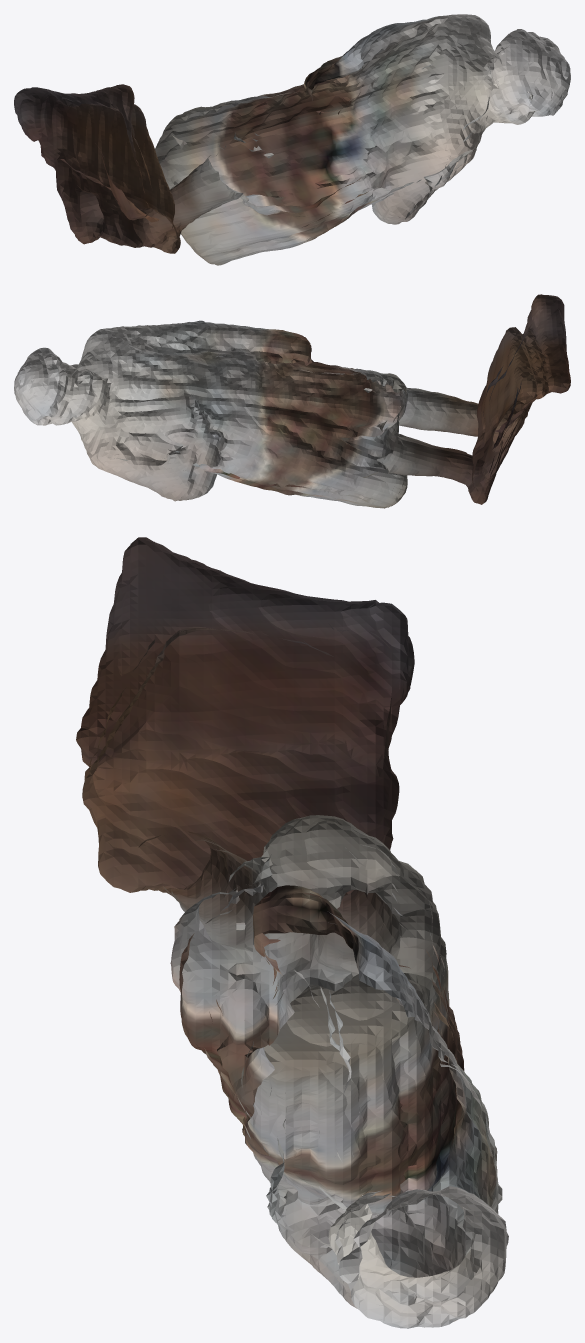
Rendered from statue_trier_side.glb.
The picture shows the model from 3 angles, top to bottom: view 1: azimuth 30°, elevation 25°; view 2: azimuth 150°, elevation 25°; view 3: azimuth 270°, elevation 25°; orthographic projection. The views are drawn at different scales.
Parts seen in each view (by area): view 1: geometry_0; view 2: geometry_0; view 3: geometry_0.
Boxes of the visible parts, x1,y1,x2,y2 form: geometry_0: (14, 14, 570, 265); geometry_0: (14, 294, 570, 508); geometry_0: (76, 537, 508, 1328).
Size of the model in its own units: 0.947 by 0.4306 by 0.3609.
